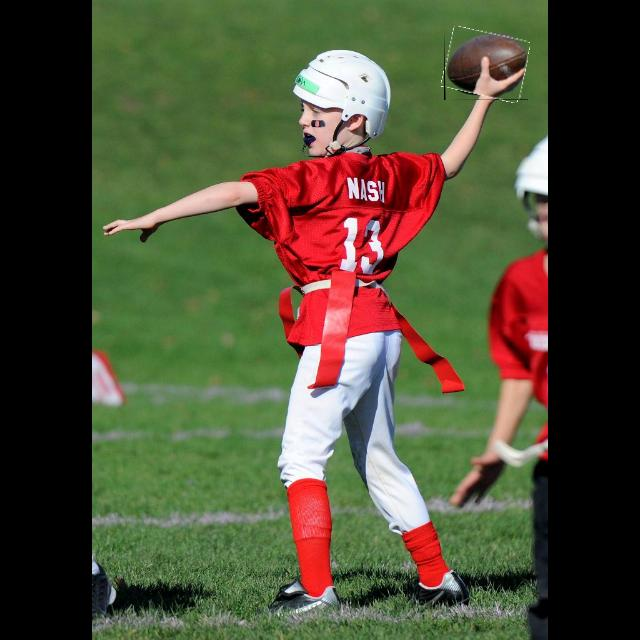Football: (444, 30, 528, 100)
